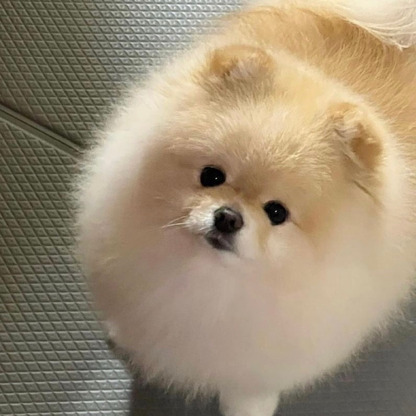Pomeranian: (107, 37, 398, 382)
